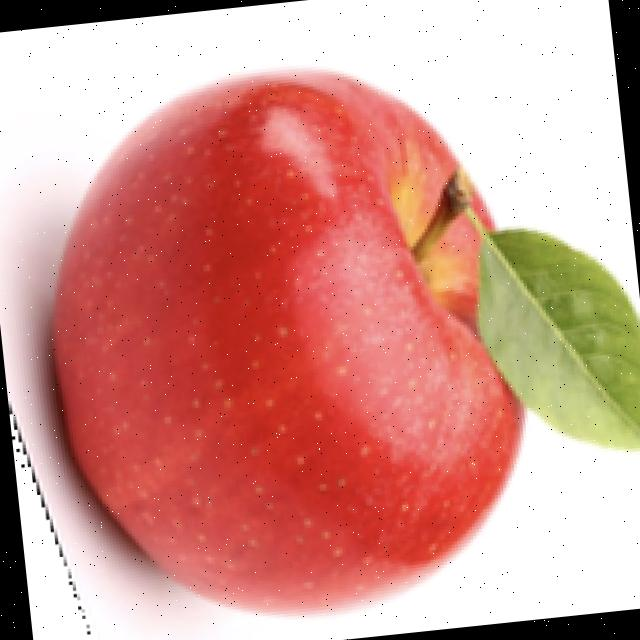apple: (0, 61, 640, 627)
